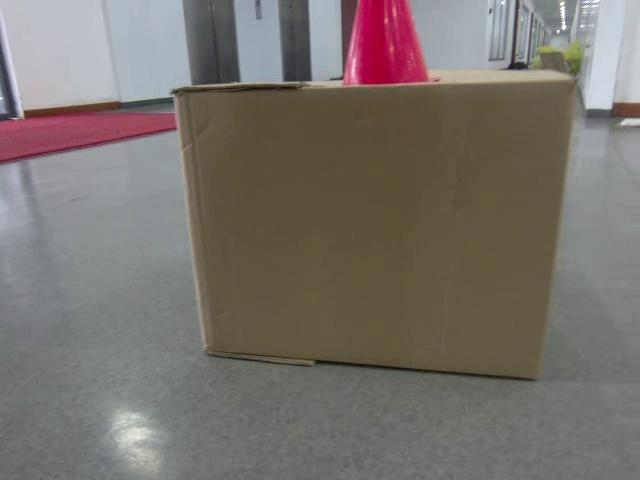red_barrel: (342, 0, 432, 86)
